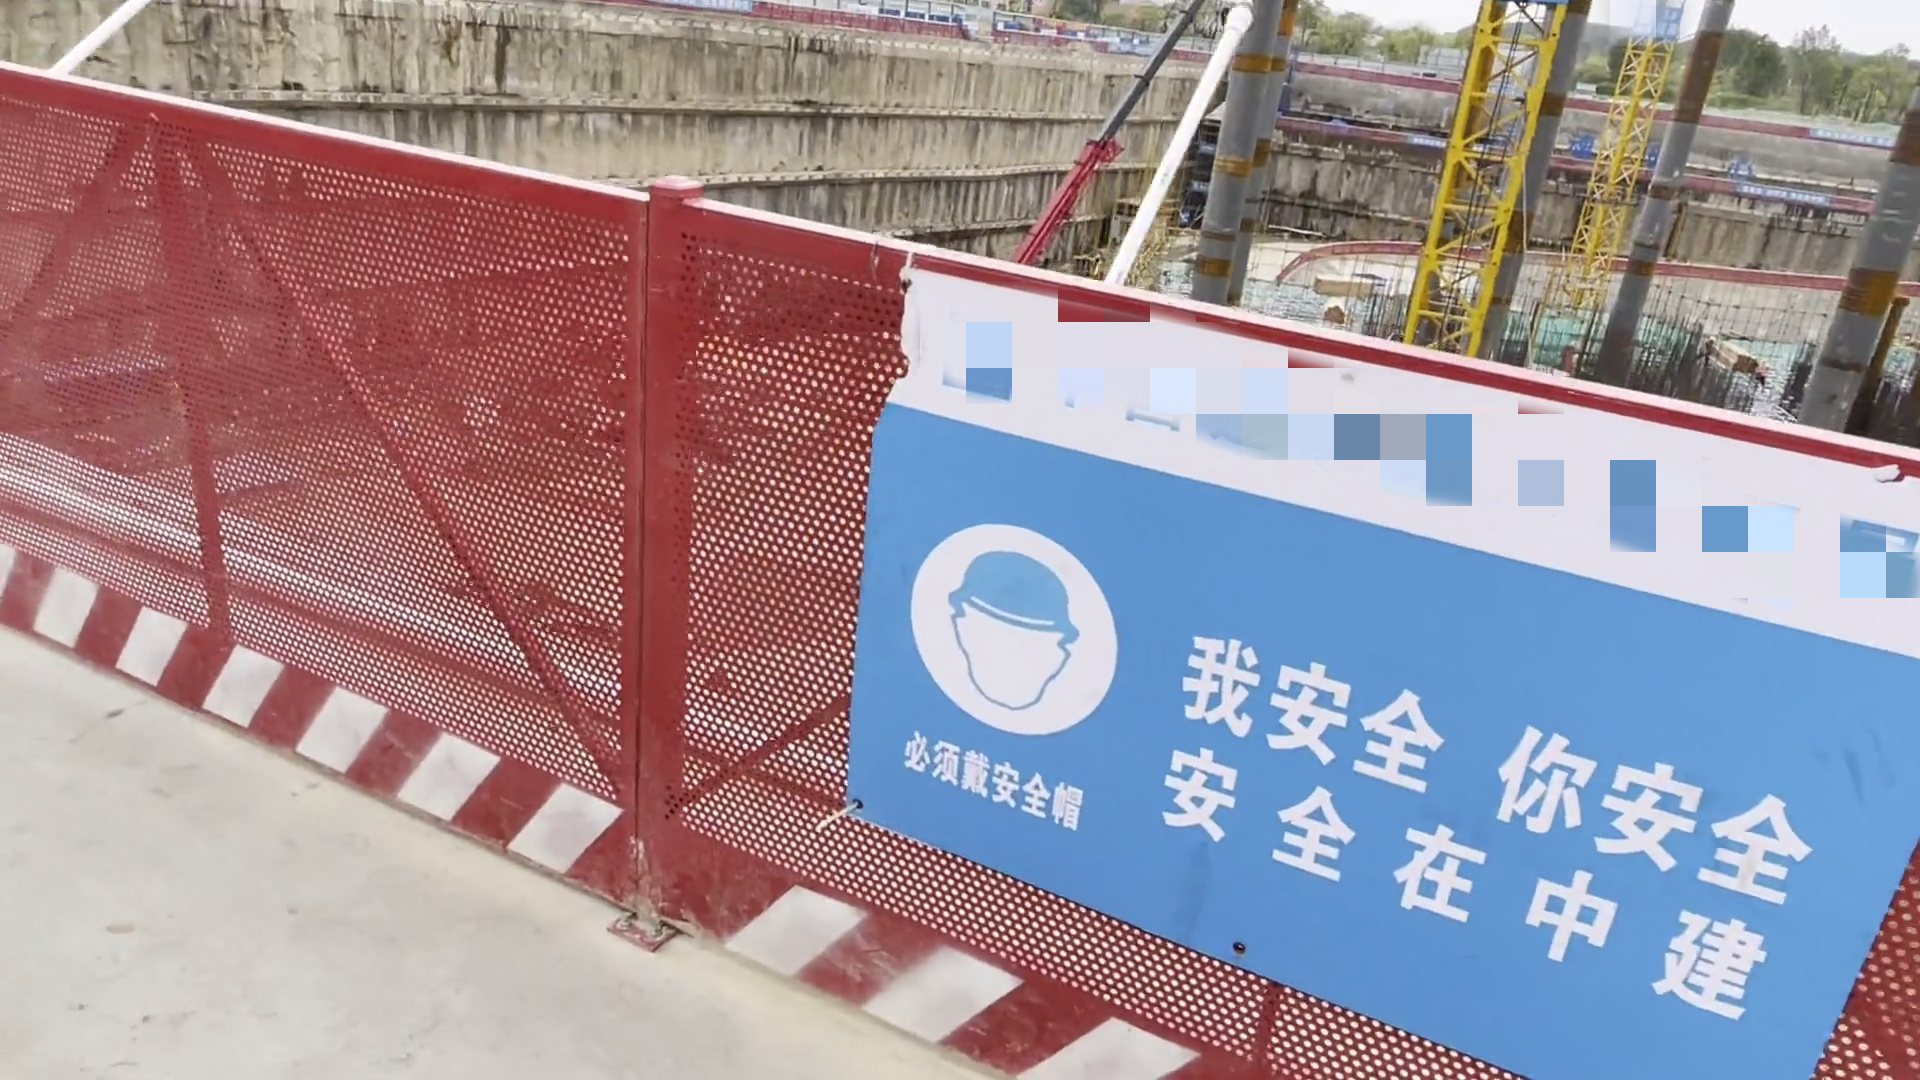fence: (642, 174, 1920, 1080), (3, 67, 641, 942)
slogan: (843, 258, 1920, 1067), (1741, 179, 1826, 211), (1817, 127, 1898, 148), (1404, 133, 1444, 148)
wood: (1717, 332, 1763, 378), (1313, 273, 1371, 305)
